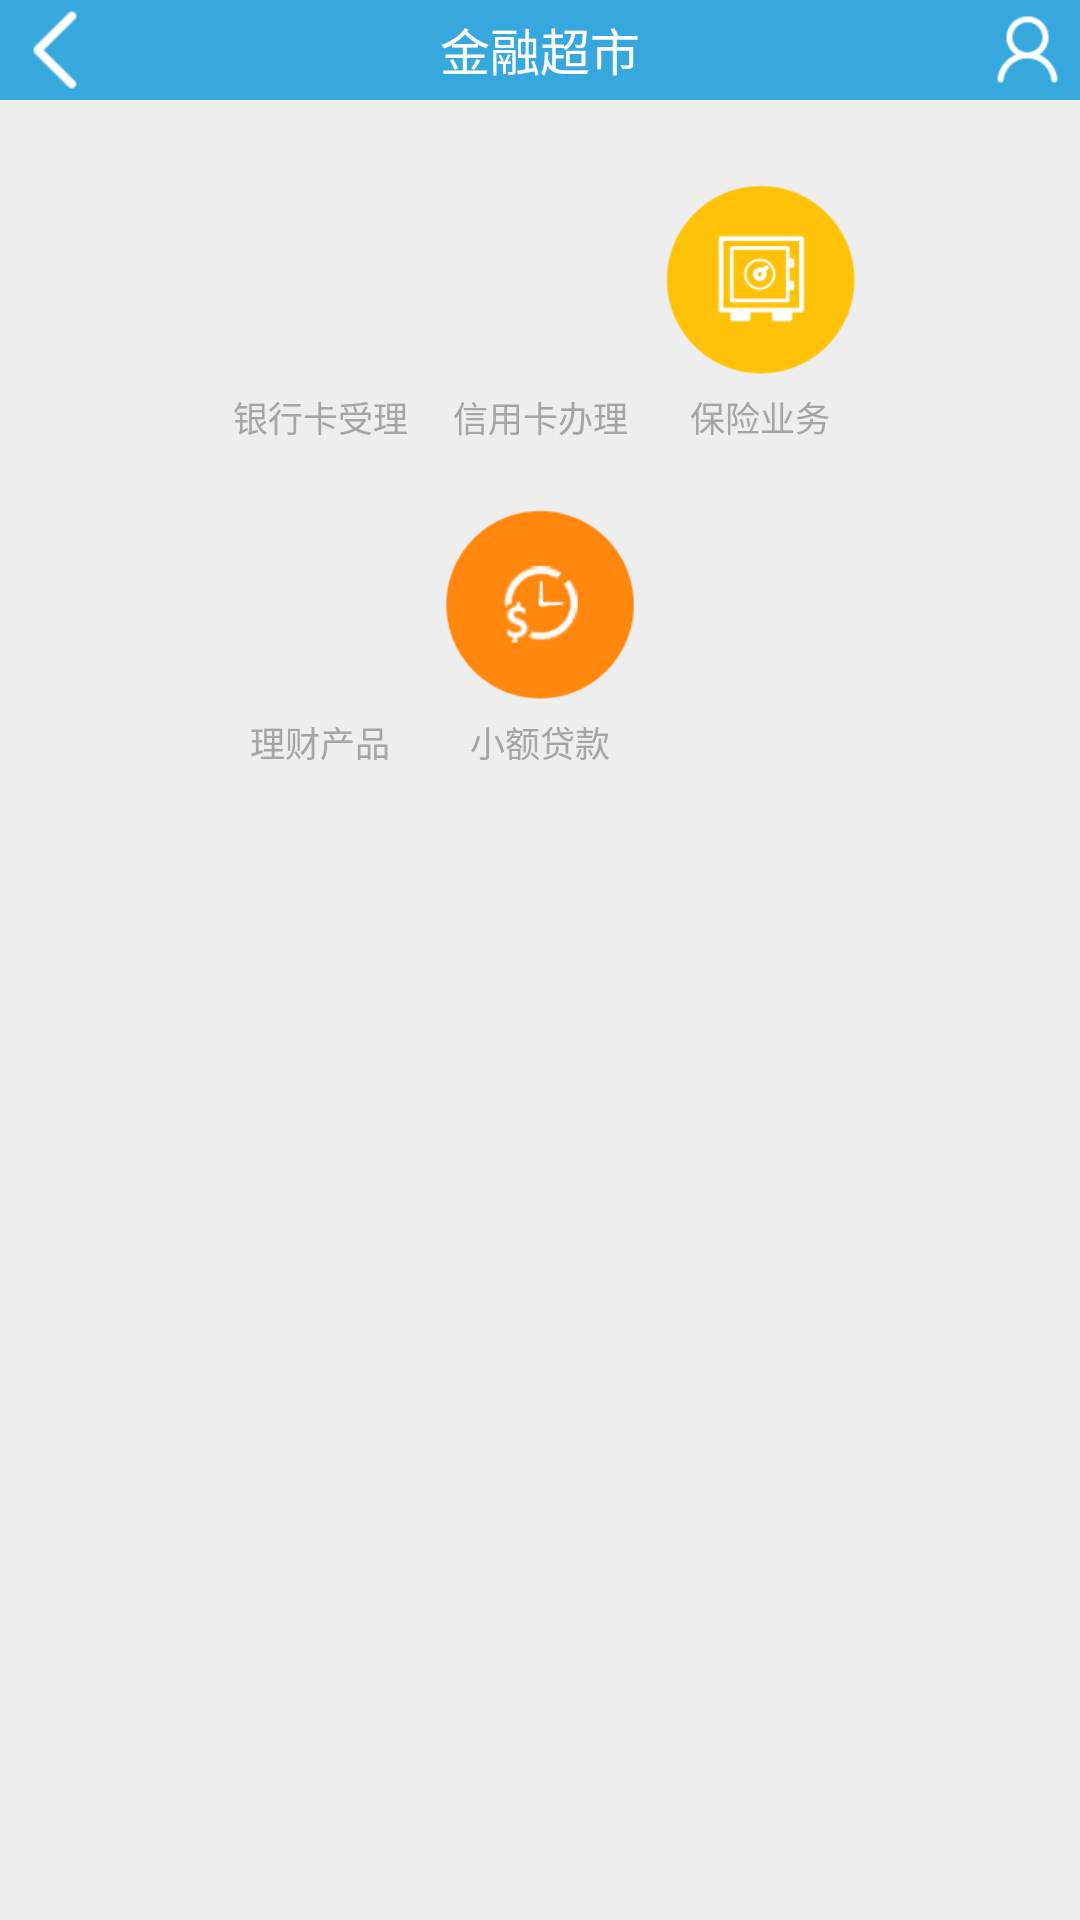

Where icons sit on this 1080px×1920px app screen, as (x1, y1, x2, y2):
leftarrowicon: (33, 11, 77, 89)
usericon: (997, 16, 1058, 83)
